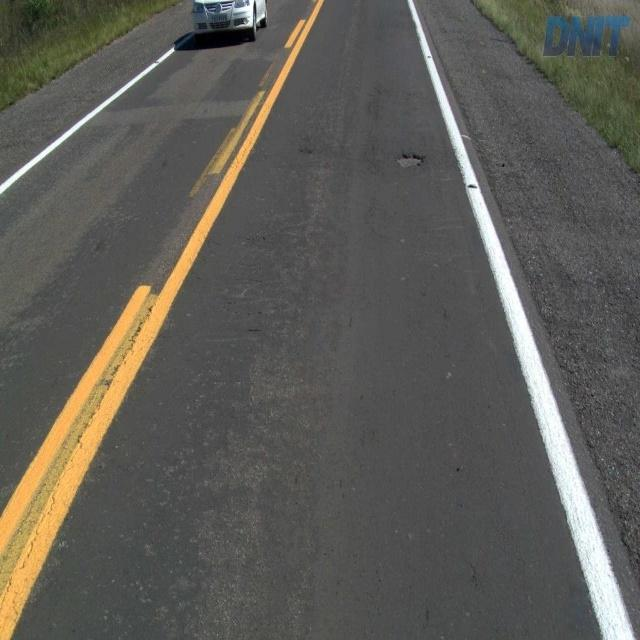pothole: (398, 151, 428, 171)
